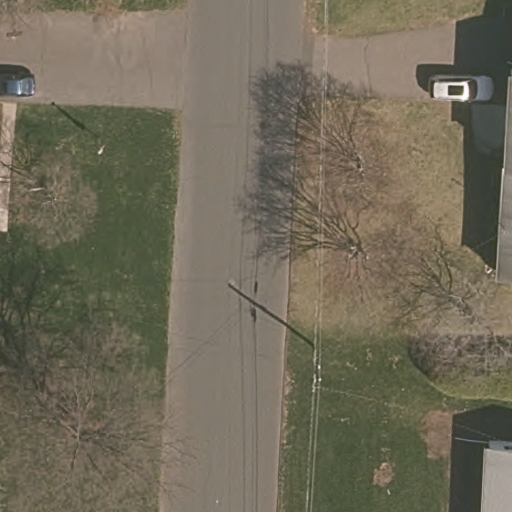DT: (303, 362, 330, 396)
